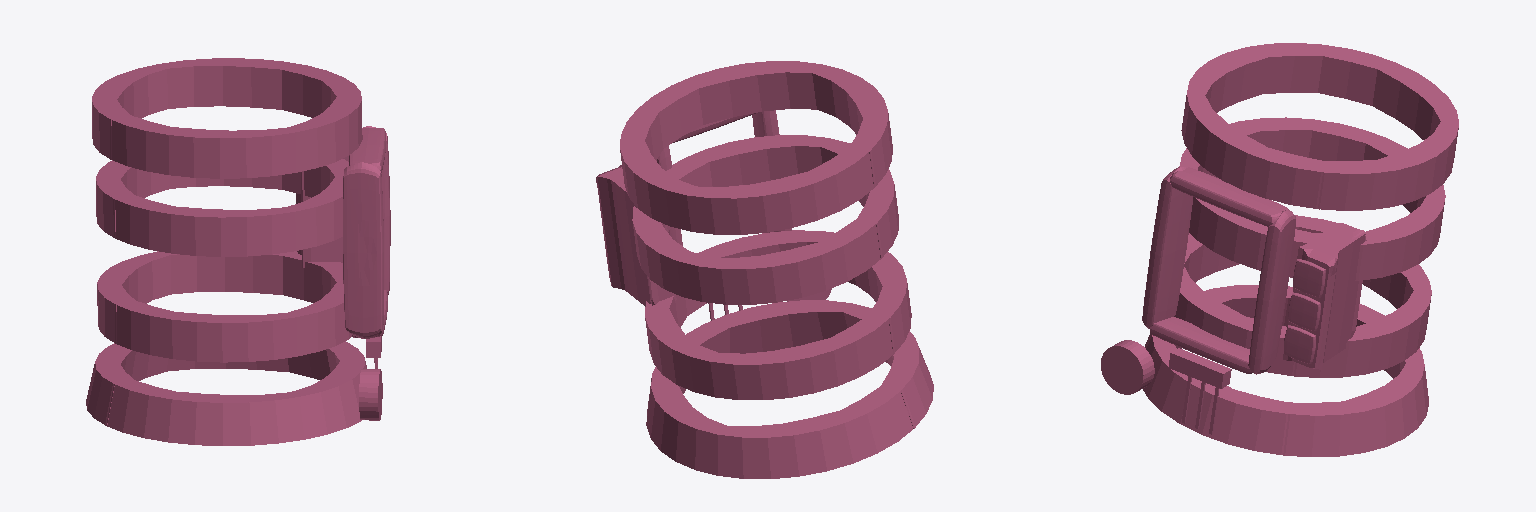
The model's file is pip2.obj.
3 renders of one model, left to right at view 1: azimuth 30°, elevation 25°; view 2: azimuth 150°, elevation 25°; view 3: azimuth 270°, elevation 25°, orthographic.
Parts seen in each view (by area): view 1: pip2; view 2: pip2; view 3: pip2.
Boxes of the visible parts, x1,y1,x2,y2 form: pip2: [86, 58, 390, 445]; pip2: [596, 61, 933, 478]; pip2: [1101, 43, 1458, 456].
Bounding box in the file's own units: 7.93 × 8.22 × 8.3.